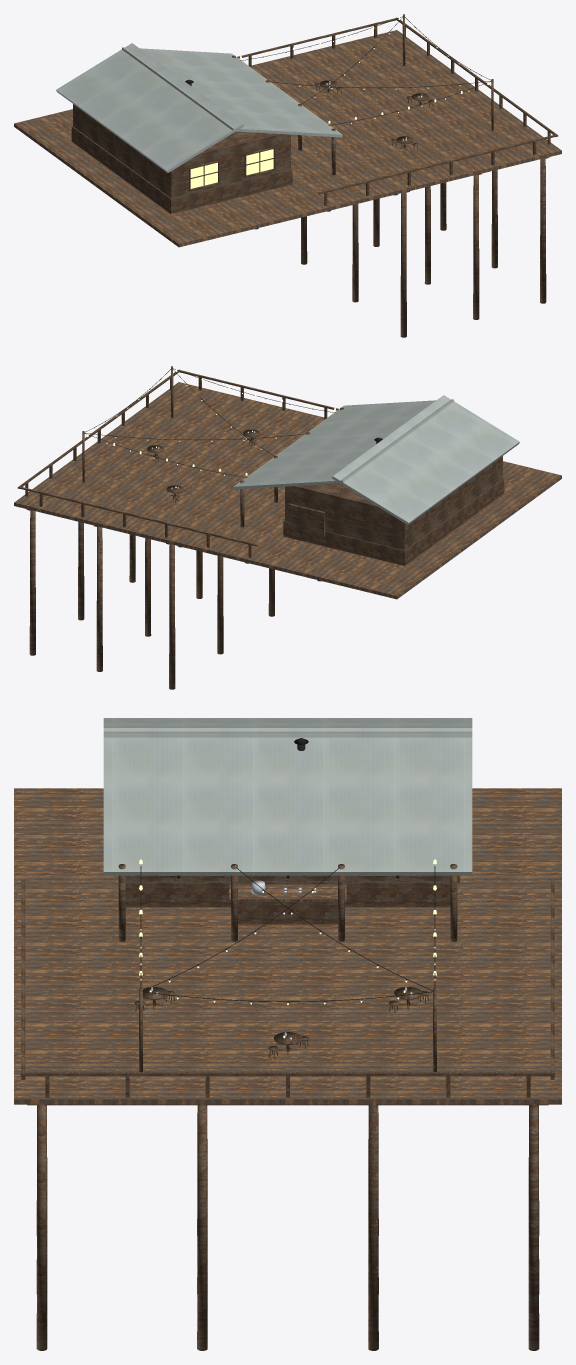
Rendered from cafe_mo_suong.glb.
3 views of the same model, one above another, from view 1: azimuth 30°, elevation 25°; view 2: azimuth 150°, elevation 25°; view 3: azimuth 270°, elevation 25° (orthographic). The views are drawn at different scales.
Visible parts, largest first — view 1: CafeMoSuong; view 2: CafeMoSuong; view 3: CafeMoSuong.
Boxes of the visible parts, x1,y1,x2,y2 form: CafeMoSuong: [14, 14, 561, 337]; CafeMoSuong: [14, 366, 561, 689]; CafeMoSuong: [14, 718, 561, 1350].
Bounding box in the file's own units: 27.5 × 16 × 20.5.
Materials: 14 (6 with a texture image).
